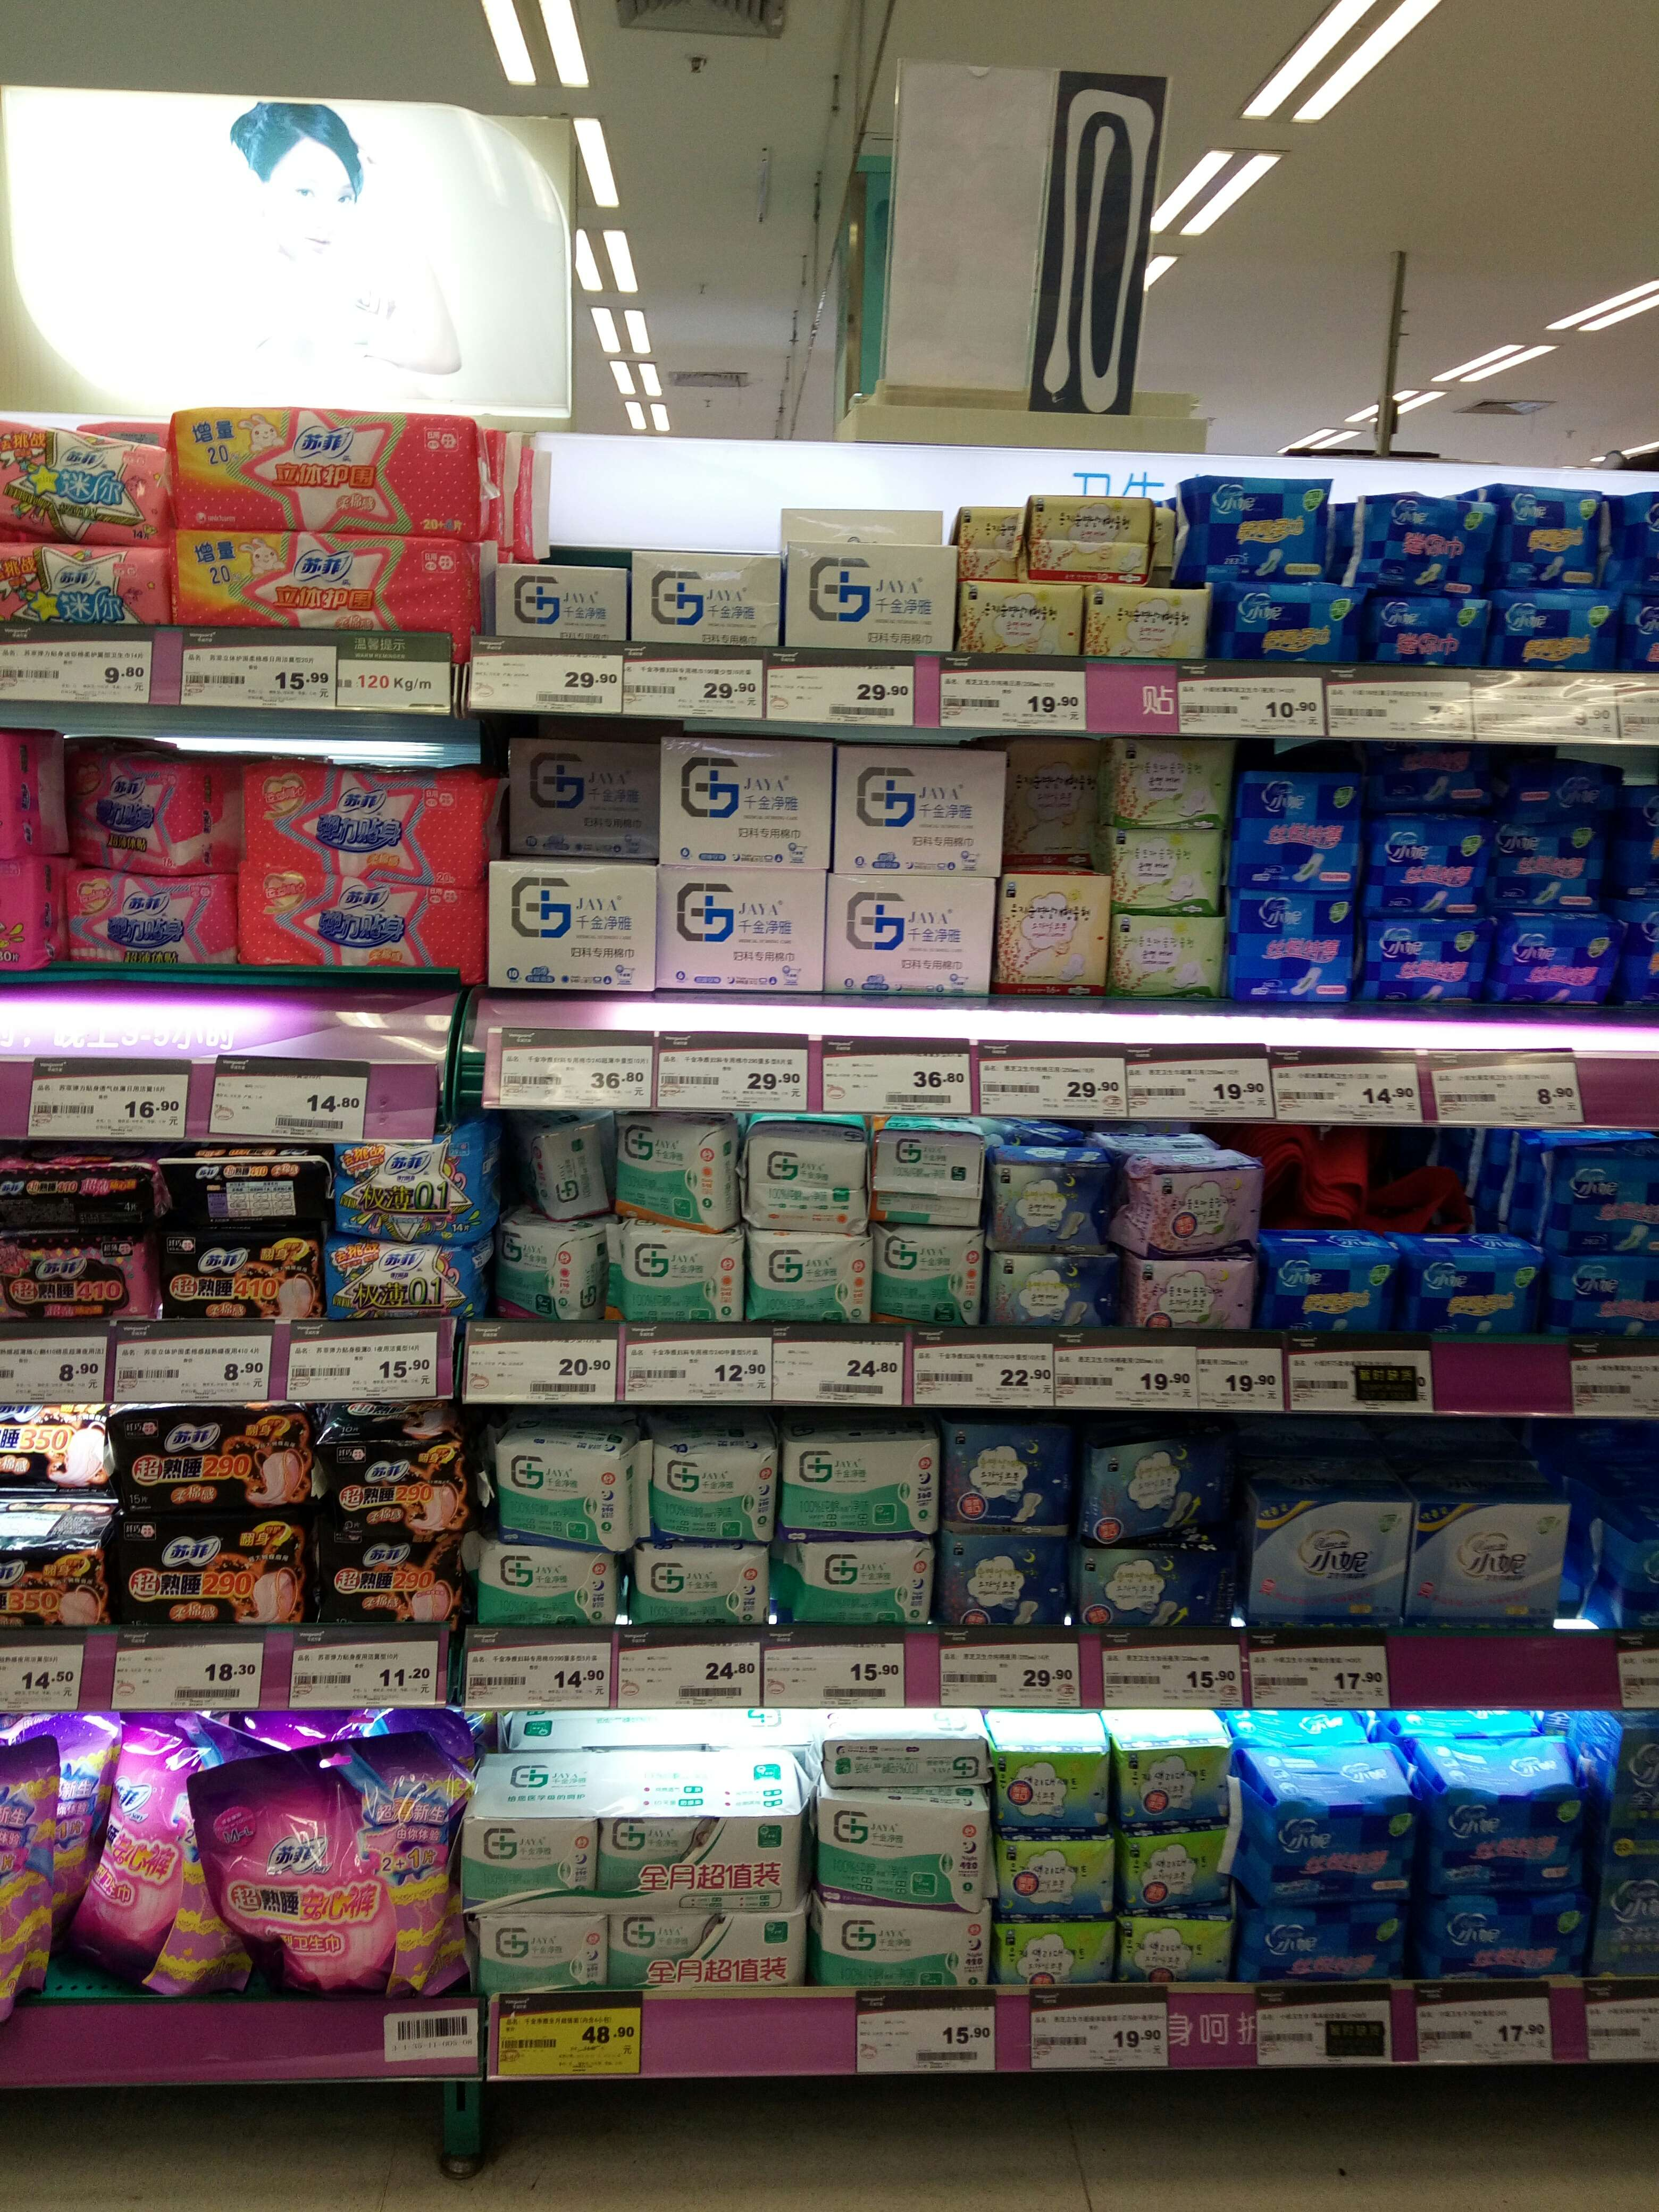Misplacement: (493, 735, 659, 1000)
